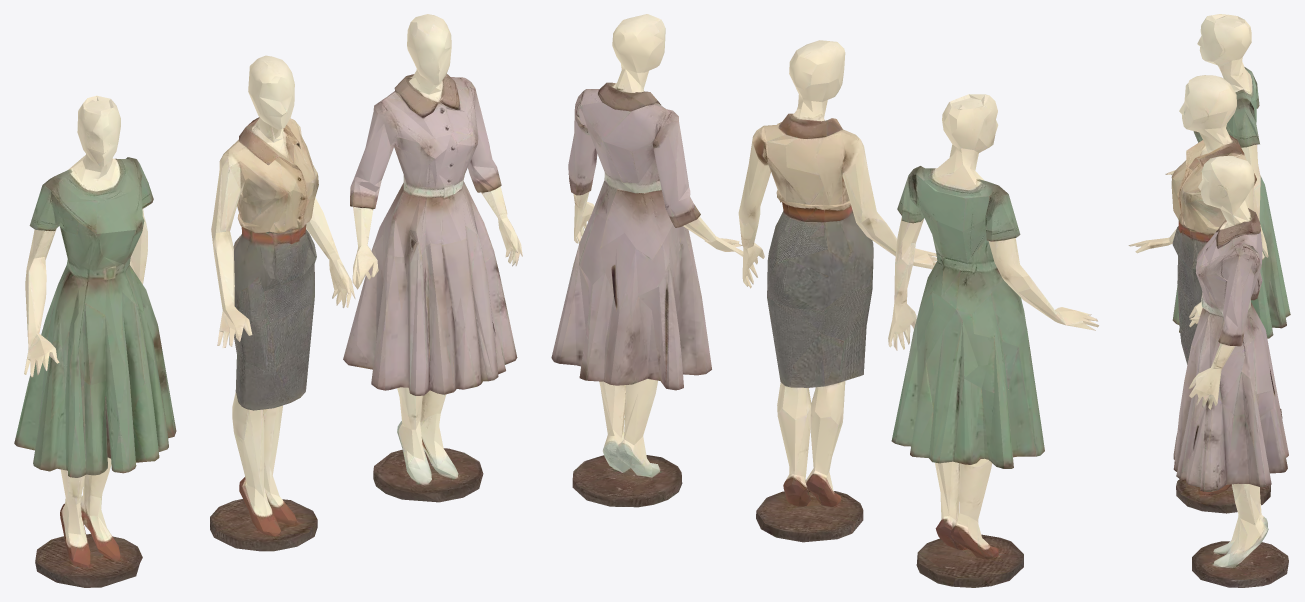
The model's file is mannequins.glb.
3 renders of one model, left to right at view 1: azimuth 30°, elevation 25°; view 2: azimuth 150°, elevation 25°; view 3: azimuth 270°, elevation 25°, orthographic. The views are drawn at different scales.
Parts seen in each view (by area): view 1: Mesh_0; view 2: Mesh_0; view 3: Mesh_0.
Boxes of the visible parts, x1,y1,x2,y2 form: Mesh_0: [14, 14, 522, 587]; Mesh_0: [551, 14, 1098, 587]; Mesh_0: [1128, 14, 1290, 587].
Size of the model in its own units: 1.9 by 1.7 by 0.6009.
Materials: 1 (1 with a texture image).
